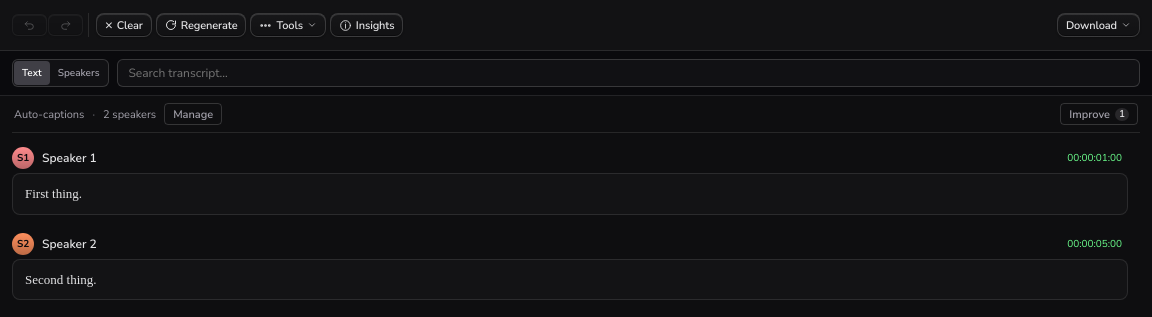
Test: adding speakers picks the cheap path when it exists › the offer disappears once the transcript has speakers
expect the button "First thing." is shown: met, box x1=25 y1=186 x2=82 y2=201
Click the button "Improve 1". click: (1099, 114)
box: x1=1060 y1=103 x2=1138 y2=125
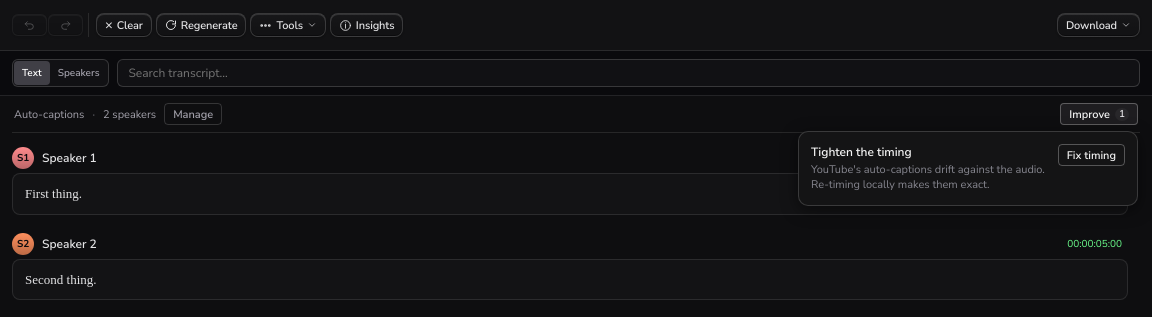
expect the text "Tighten the timing" is shown: met, box x1=811 y1=144 x2=912 y2=160
